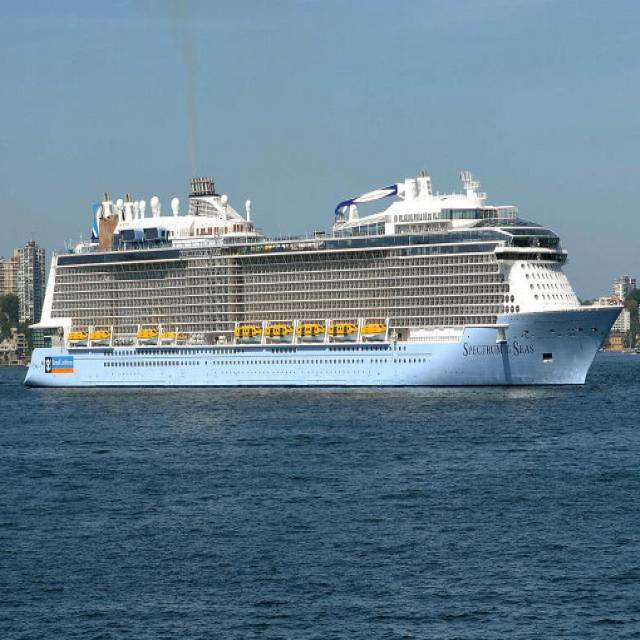cruises: (19, 167, 629, 393)
